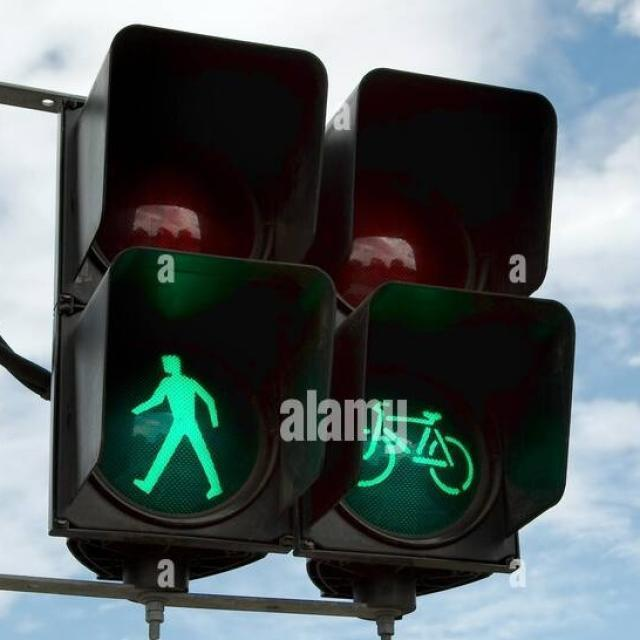geen-crossing: (120, 338, 232, 508)
